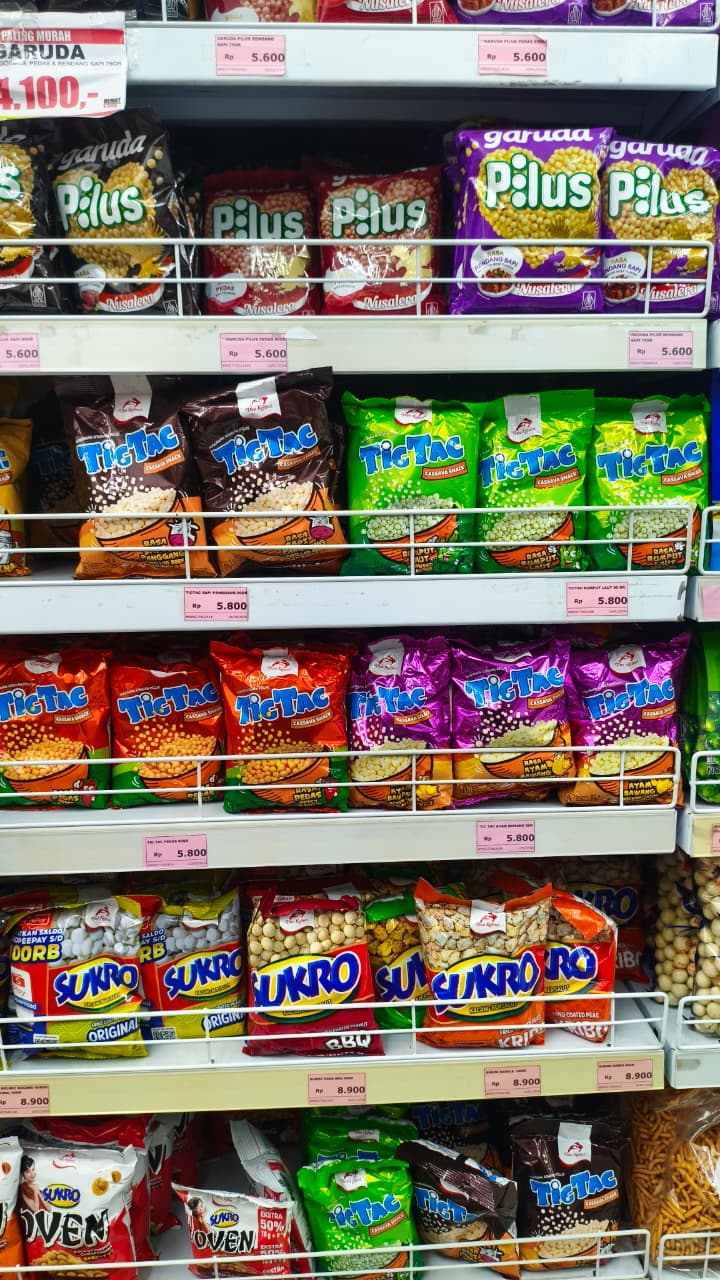Pilus: (476, 141, 596, 272), (322, 171, 442, 302), (44, 148, 164, 279)
Sukro: (420, 936, 545, 1043), (242, 931, 367, 1038), (46, 940, 150, 1043)
Tic tac: (220, 667, 349, 782), (588, 420, 717, 535), (348, 413, 477, 528)
